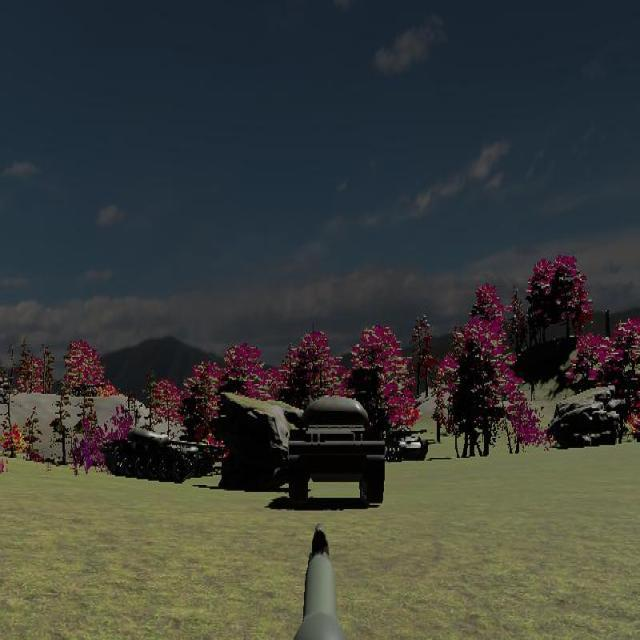Tank: (288, 393, 386, 508), (103, 427, 223, 483), (383, 424, 428, 462)
